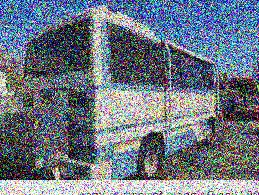bus: (20, 5, 223, 181)
